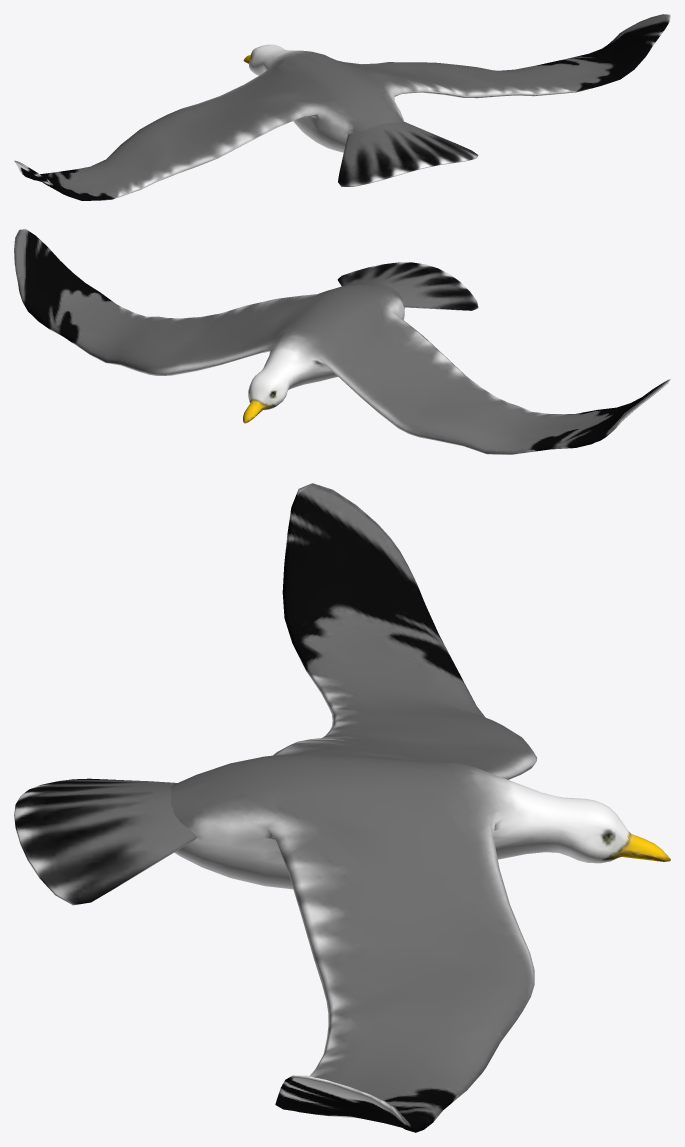
The model's file is gull.glb.
The picture shows the model from 3 angles, top to bottom: view 1: azimuth 30°, elevation 25°; view 2: azimuth 150°, elevation 25°; view 3: azimuth 270°, elevation 25°; orthographic projection. The views are drawn at different scales.
Parts seen in each view (by area): view 1: gull; view 2: gull; view 3: gull.
Part boxes in pixels (x1,y1,x2,y2): gull: (14,14,670,200); gull: (14,229,670,454); gull: (14,483,670,1132).
Bounding box in the file's own units: 1.4 × 0.1589 × 0.6758.
Materials: 1 (1 with a texture image).
